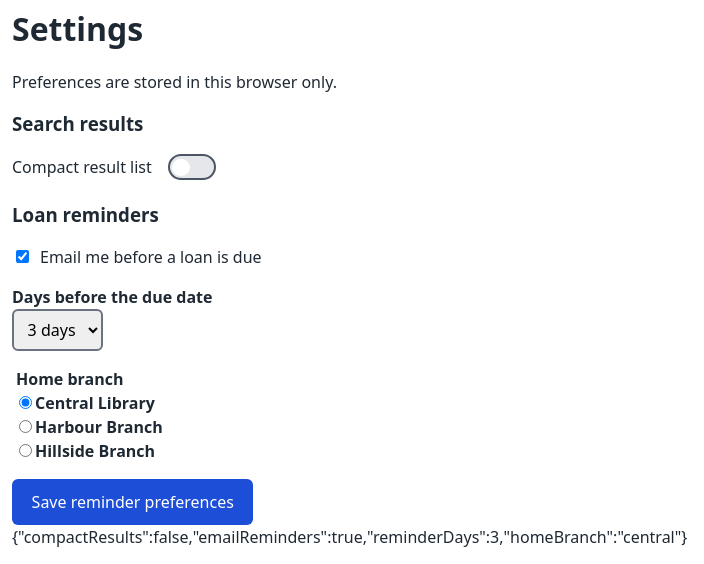
it: SettingsPage › toggles the compact result list by click and by keyboard
The image size is (704, 564).
Click the switch named "Compact result list": coordinates (192, 167) left=168, top=154, right=216, bottom=180
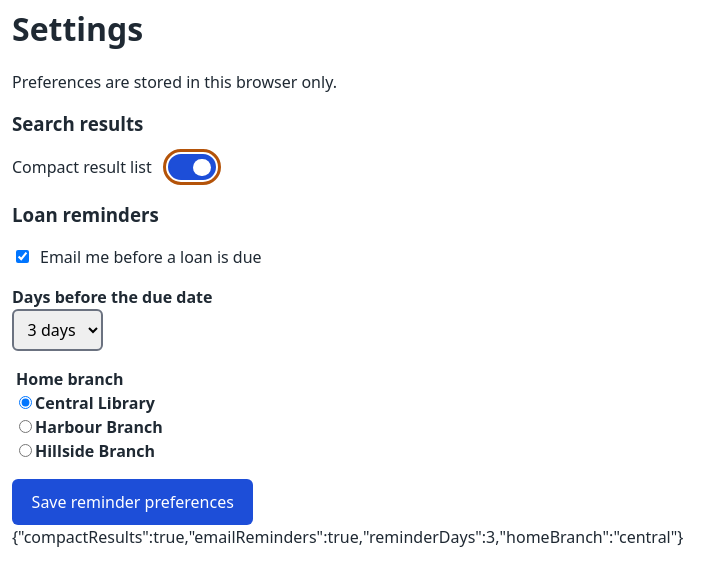
Expected: the text "\"compactResults\":true" is shown, left=12, top=526, right=683, bottom=548
Type keys " "
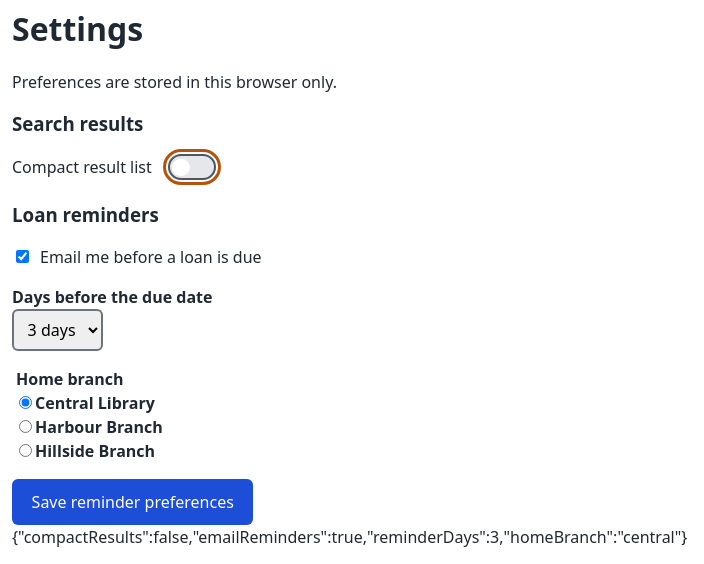
Expected: the text "\"compactResults\":false" is shown, left=12, top=526, right=687, bottom=548
